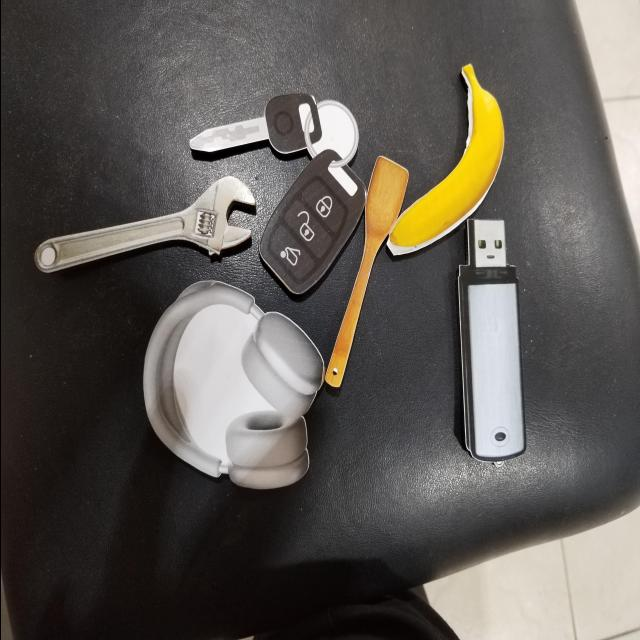Other Objects: (187, 23, 399, 309), (127, 263, 334, 506), (385, 63, 504, 257), (33, 175, 256, 274), (323, 155, 409, 389), (454, 215, 526, 464)
